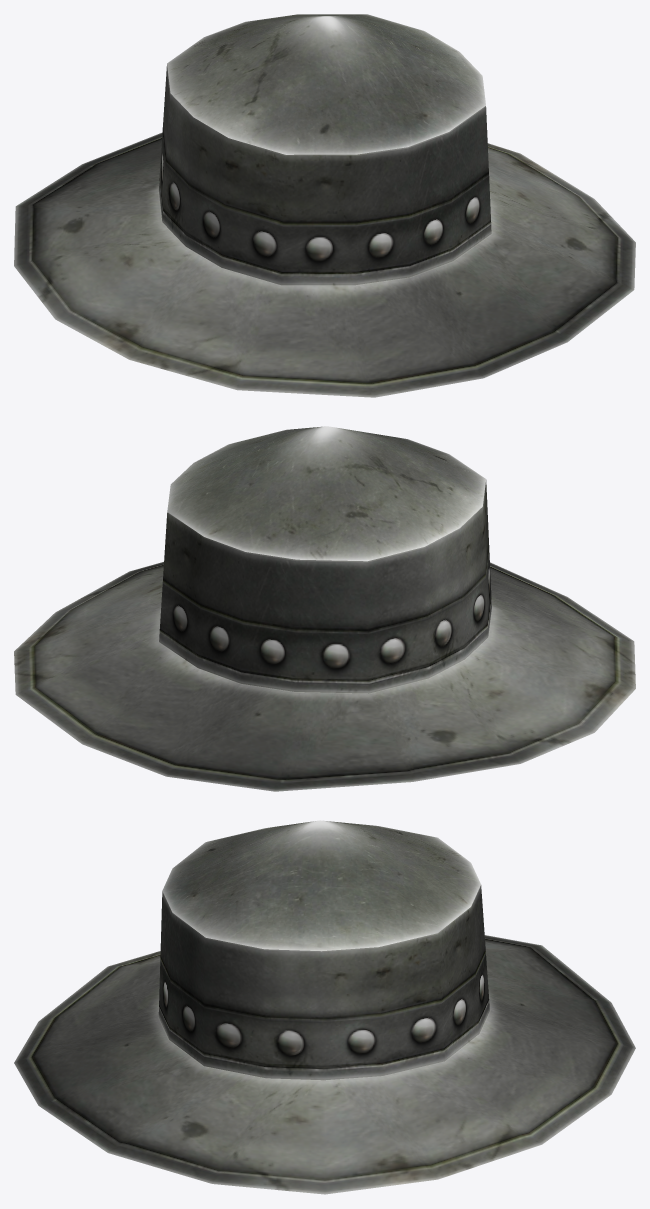
The model's file is hat08_husita.FBX.
The picture shows the model from 3 angles, top to bottom: view 1: azimuth 30°, elevation 25°; view 2: azimuth 150°, elevation 25°; view 3: azimuth 270°, elevation 25°; orthographic projection. The views are drawn at different scales.
Parts seen in each view (by area): view 1: hat_08_husita; view 2: hat_08_husita; view 3: hat_08_husita.
Part boxes in pixels (x1,y1,x2,y2): hat_08_husita: [14, 14, 635, 397]; hat_08_husita: [14, 426, 635, 791]; hat_08_husita: [14, 820, 635, 1194].
Size of the model in its own units: 39.81 by 17.8 by 40.57.
